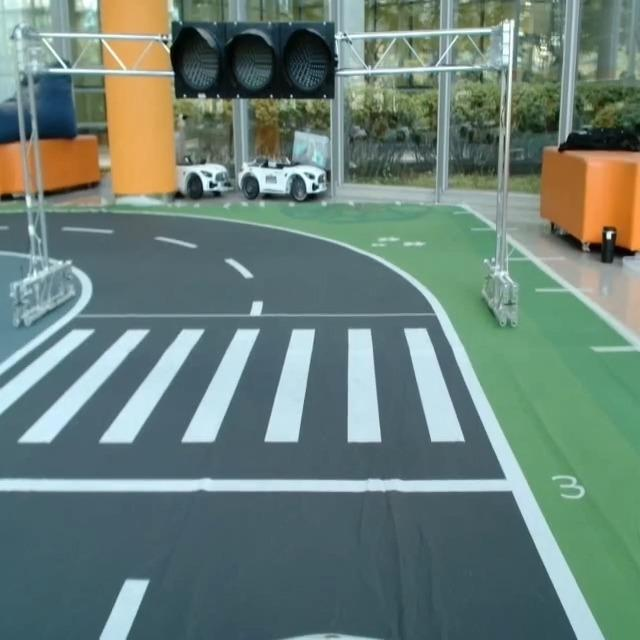traffic-light: (171, 16, 340, 103)
